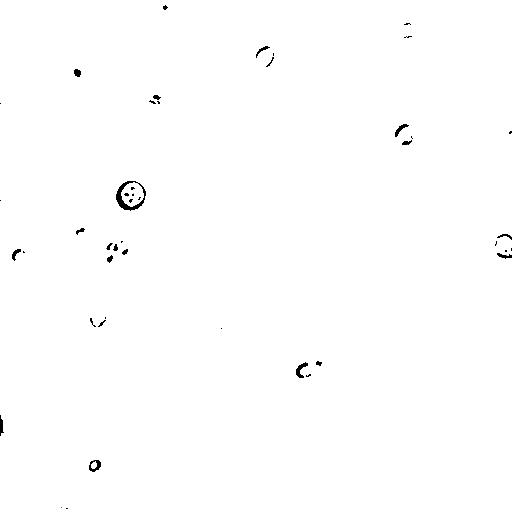micro-algae: (467, 15, 512, 89), (393, 37, 441, 87), (10, 285, 58, 331), (57, 49, 99, 94), (117, 180, 149, 212), (69, 217, 103, 247), (141, 230, 173, 261), (307, 351, 335, 381), (99, 249, 128, 276), (393, 122, 419, 147), (252, 43, 277, 68), (107, 236, 130, 260), (1, 409, 17, 441), (493, 233, 511, 260), (87, 307, 109, 329), (400, 17, 423, 37), (49, 498, 83, 511), (12, 247, 34, 267), (293, 361, 317, 379), (153, 0, 173, 16), (87, 458, 103, 474), (505, 126, 512, 150)
